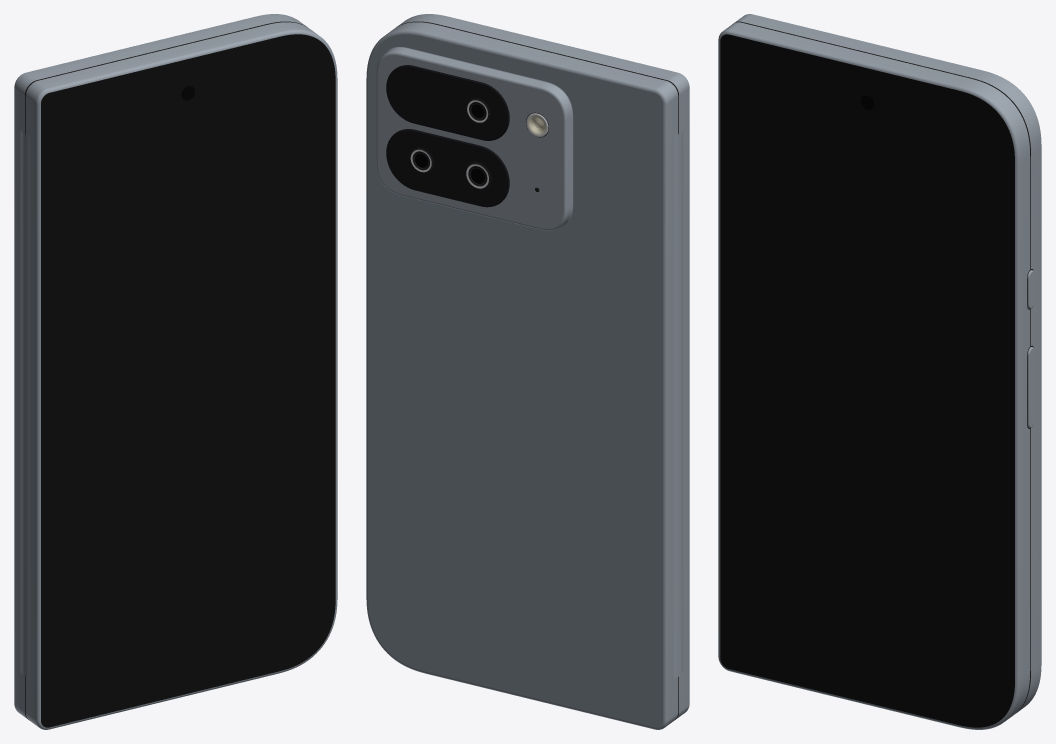
File: pixel-10-pro-fold.glb
The picture shows the model from 3 angles, left to right: view 1: azimuth 30°, elevation 25°; view 2: azimuth 150°, elevation 25°; view 3: azimuth 330°, elevation 25°; orthographic projection.
Parts seen in each view (by area): view 1: body, fold; view 2: body, camera, fold; view 3: body, fold, buttons.
Part boxes in pixels (x1,y1,x2,y2): body: [14, 14, 337, 729]; fold: [20, 21, 306, 719]; body: [366, 14, 689, 729]; camera: [376, 46, 573, 230]; fold: [397, 21, 683, 719]; body: [718, 14, 1041, 729]; fold: [735, 21, 1030, 712]; buttons: [1027, 269, 1034, 428].
Bounding box in the file's own units: 77.18 × 155 × 14.08.
